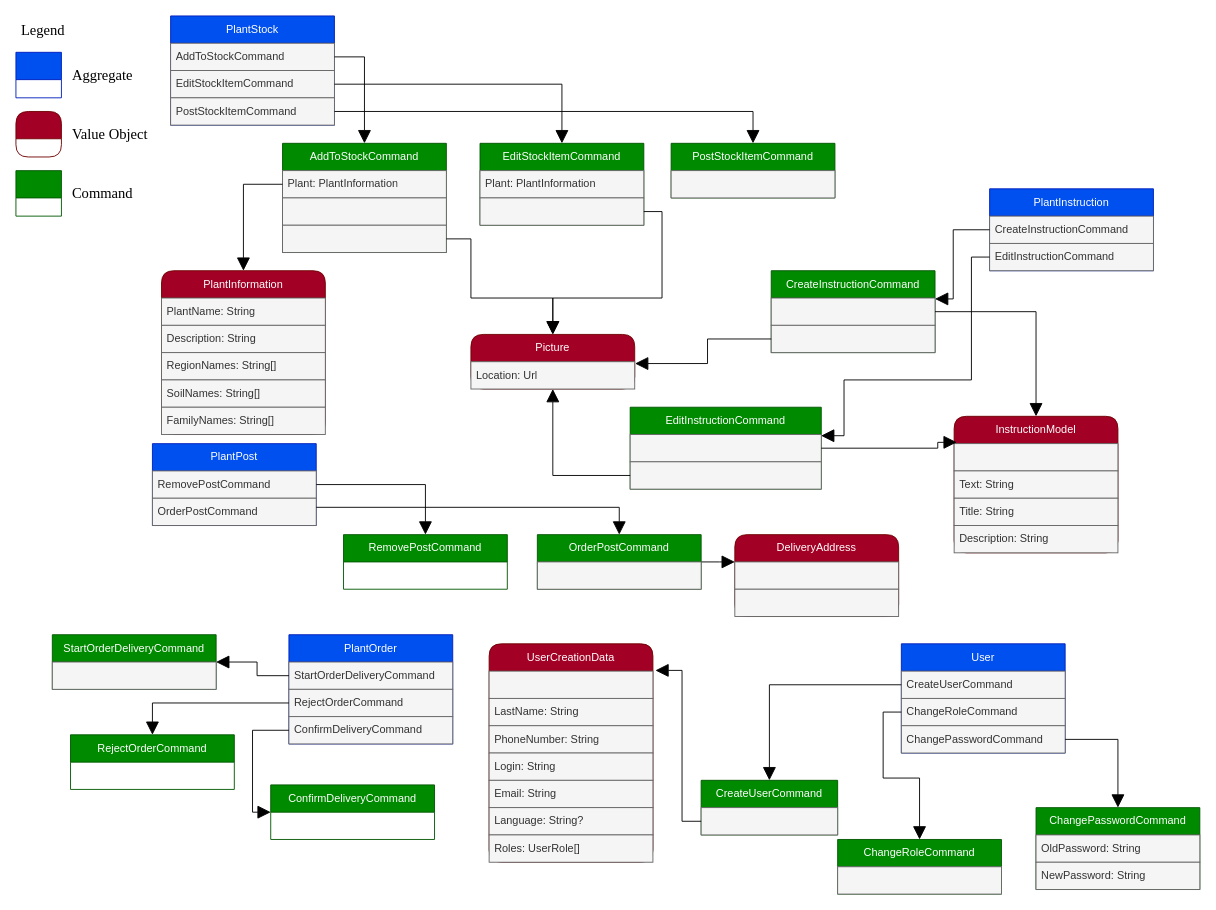
Some shapes in this 1216 by 910 pixel diagram are drawn without their labels. Each missing label, with the centre of its shape:
"Address: DeliveryAddress" goes at (x=618, y=575).
"City: String" goes at (x=816, y=575).
"Cover: Picture" goes at (x=852, y=338).
"CreatedTime: DateTime" goes at (x=364, y=211).
"Data: UserCreationData" goes at (x=769, y=821).
"FamilyName: String" goes at (x=1035, y=457).
"FirstName: String" goes at (x=570, y=684).
"Instruction: InstructionModel" goes at (x=852, y=311).
"MailNumber: Integer" goes at (x=816, y=602).
"NewCover: Picture?" goes at (x=725, y=475).
"NewInstruction: InstructionModel" goes at (x=725, y=448).
"NewPictures: Picture[]" goes at (x=561, y=211).
"Pictures: Picture[]" goes at (x=364, y=238).
"Price: decimal" goes at (x=752, y=184).
"Role: UserRole" goes at (x=919, y=880).
"TrackingNumber: String" goes at (x=133, y=675).
